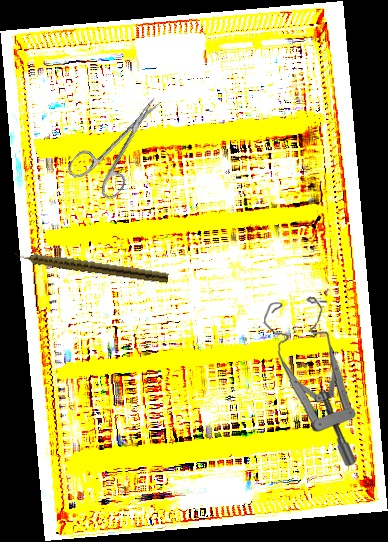Handpiece: (13, 248, 170, 284)
Iris Scissors: (64, 82, 181, 207)
Speculum: (258, 294, 362, 467)
